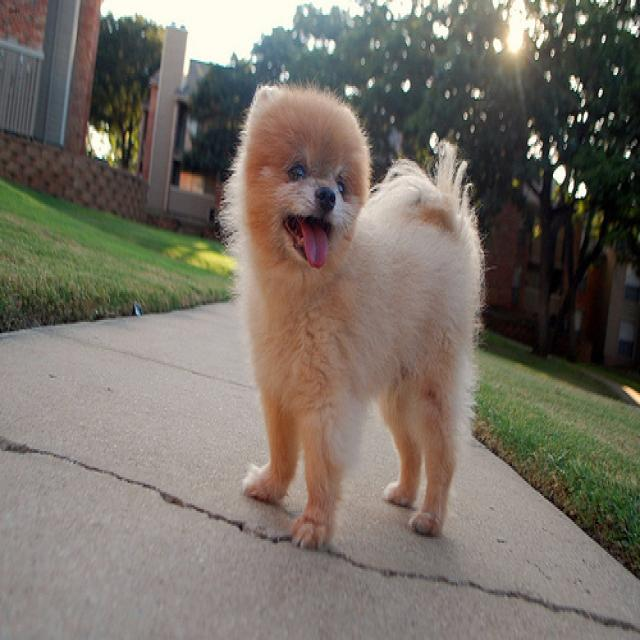dog-pomeranian: (215, 71, 500, 563)
